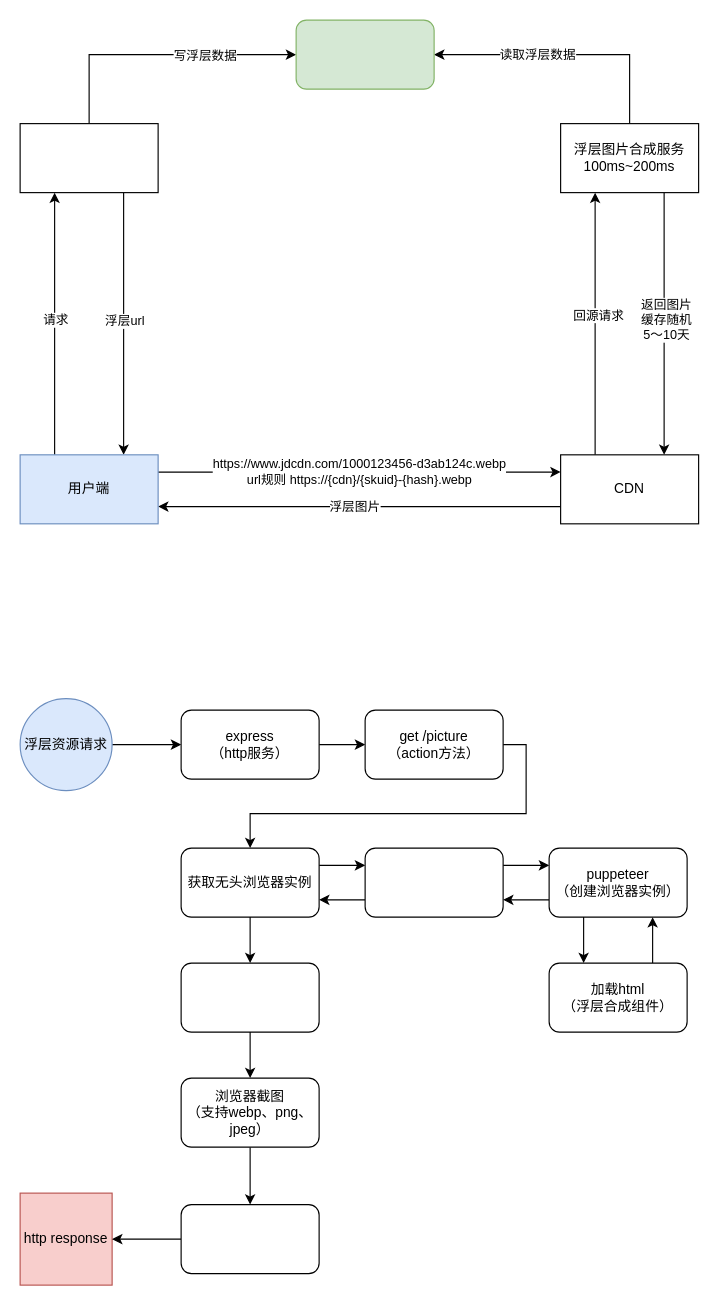
This 719x1305 diagram has some shape labels left out. Here are the shapes that lost their labels. From the top down, the centre of each, then its label:
At [364,54]: "Redis".
At [88,157]: "浮层服务接口".
At [433,882]: "poll （资源池）".
At [249,997]: "调用render方法 （附带资源id参数）".
At [249,1238]: "释放无头浏览器实例".
